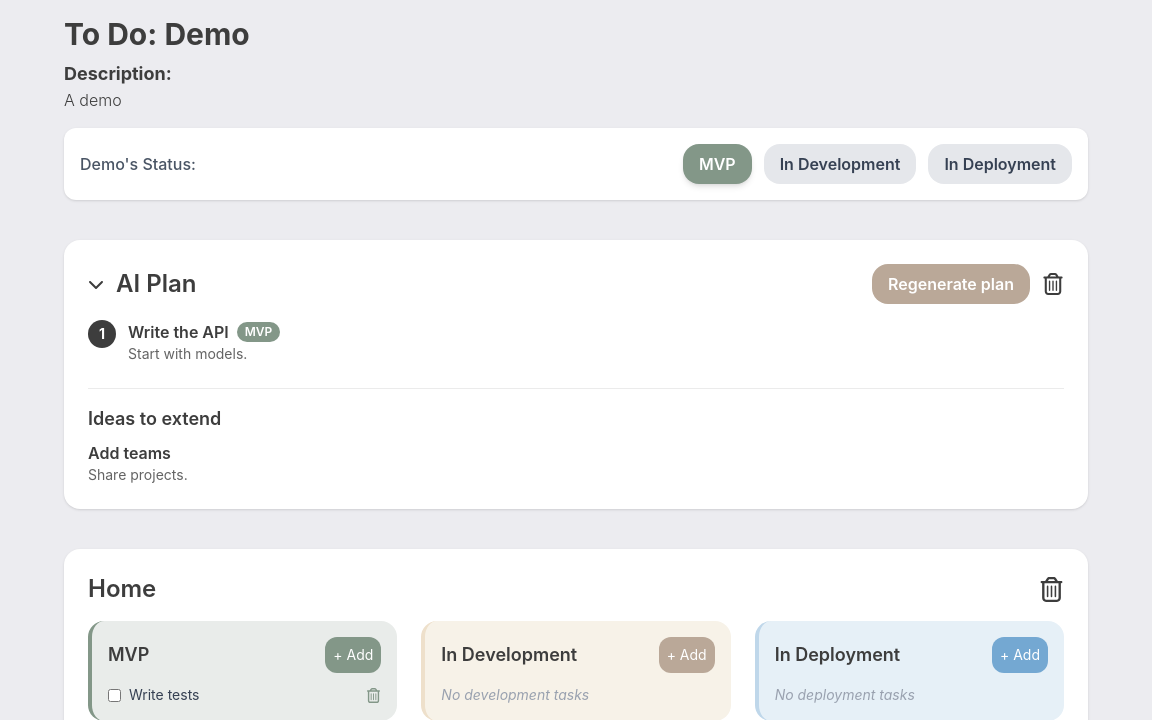
Test: ProjectDetail › AI plan › collapsing hides the plan, and expanding brings it back
Expected: the text "Write the API" is shown, [128,320,229,344]
What coordinates should you click on to do the following:
click the button with aria-label "Collapse AI plan"
I would click on:
 (142, 284)
Its box is [88,268,196,300].
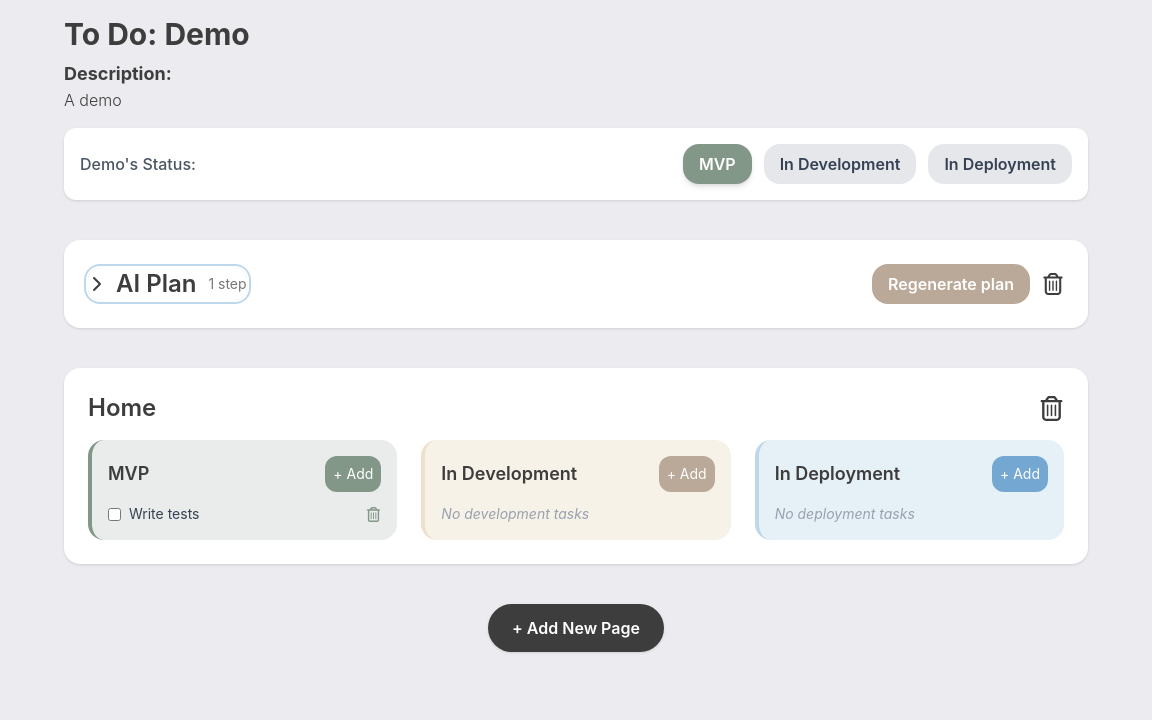
Now the text "Write the API" is gone
Now the text "Add teams" is gone
Now the text "1 step" is shown, box [208,274,247,294]
What coordinates should you click on to do the following:
click the button with aria-label "Expand AI plan"
I would click on:
 (167, 284)
Its box is [88,268,247,300].
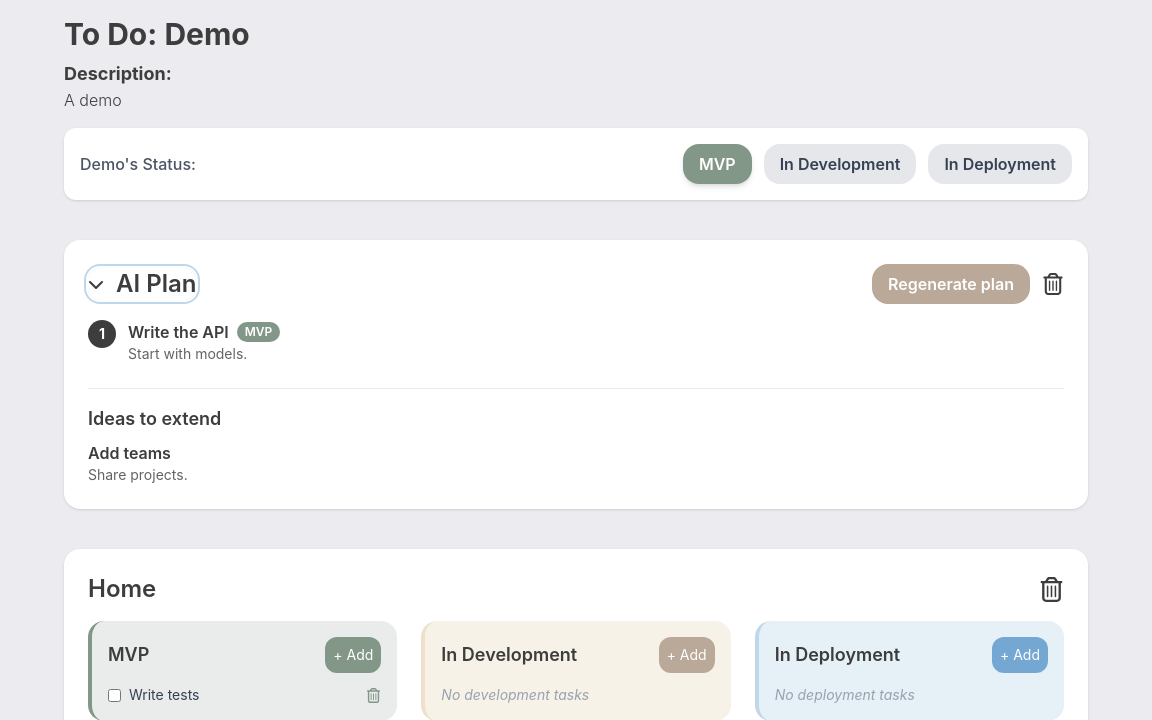
Now the text "Write the API" is shown, box [128,320,229,344]
